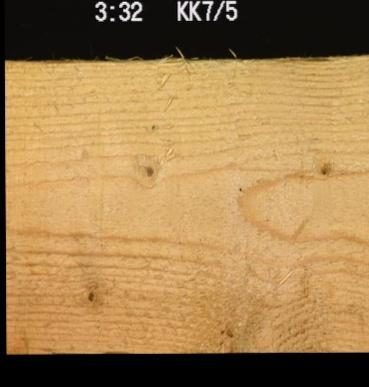small_knot: (74, 281, 101, 305), (315, 154, 336, 180), (143, 161, 158, 179)
